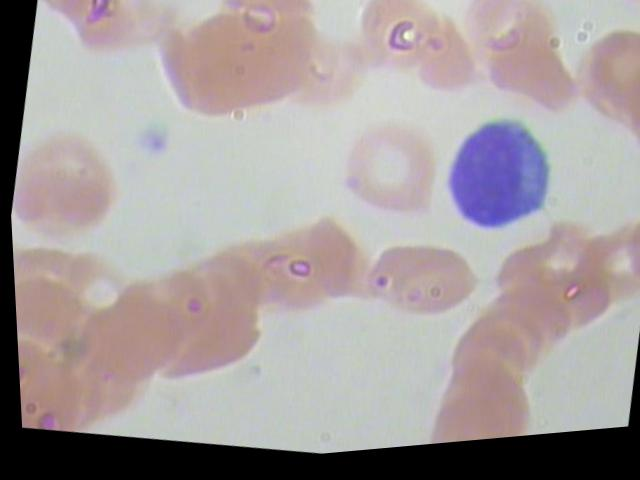Red Blood Cells: (5, 114, 131, 258), (349, 237, 491, 347), (326, 117, 449, 233), (67, 294, 187, 400), (221, 225, 341, 331), (341, 0, 461, 93), (453, 0, 566, 88), (565, 29, 639, 144), (208, 0, 323, 71), (414, 385, 527, 451), (34, 0, 145, 41)
White Blood Cells: (433, 111, 569, 254)
